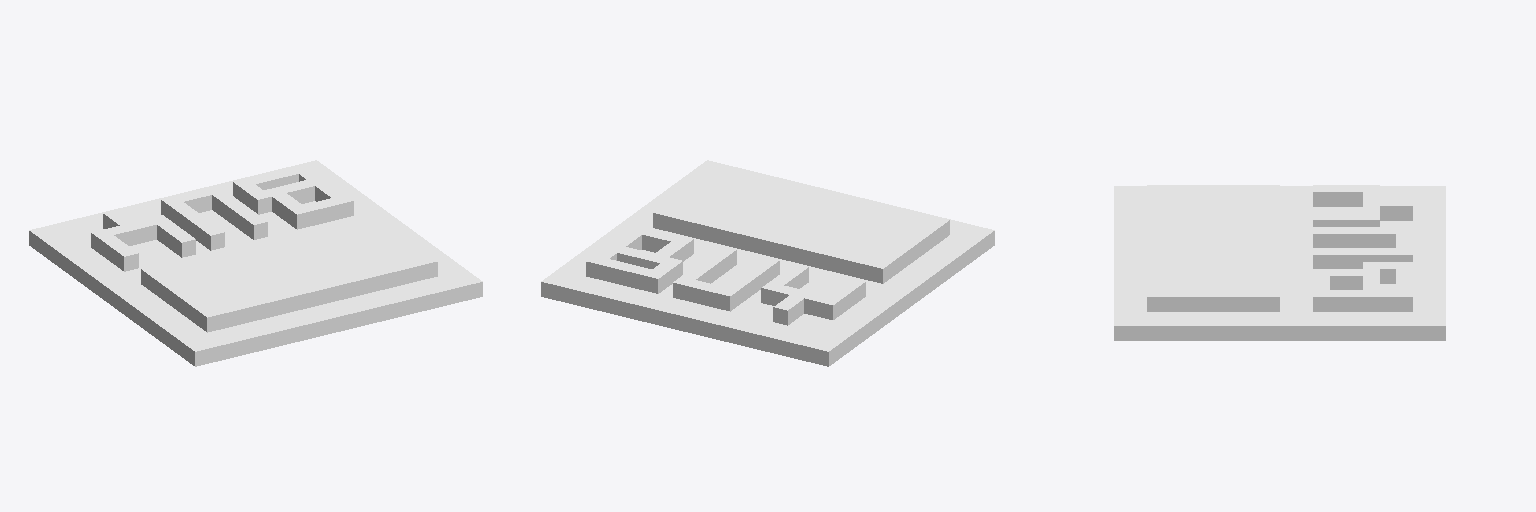
The model's file is buy-seed.obj.
3 views of the same model, side by side, from view 1: azimuth 30°, elevation 25°; view 2: azimuth 150°, elevation 25°; view 3: azimuth 270°, elevation 25° (orthographic).
Visible parts, largest first — view 1: object 1; view 2: object 1; view 3: object 1.
Boxes of the visible parts, x1=… form: object 1: x1=29, y1=160, x2=482, y2=366; object 1: x1=541, y1=160, x2=994, y2=366; object 1: x1=1114, y1=185, x2=1445, y2=340.
Size of the model in its own units: 2 by 0.2 by 2.